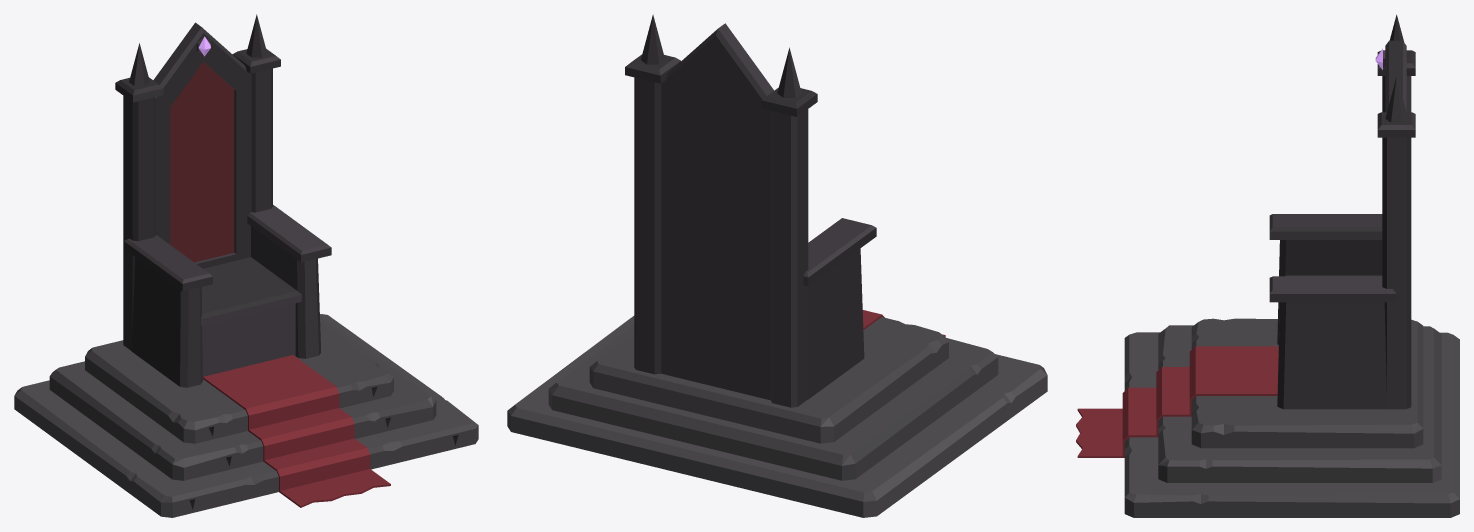
Rendered from ruler-s-throne-on-b44928.glb.
3 renders of one model, left to right at view 1: azimuth 30°, elevation 25°; view 2: azimuth 150°, elevation 25°; view 3: azimuth 270°, elevation 25°, orthographic. The views are drawn at different scales.
Size of the model in its own units: 2.6 by 2.85 by 2.52.
